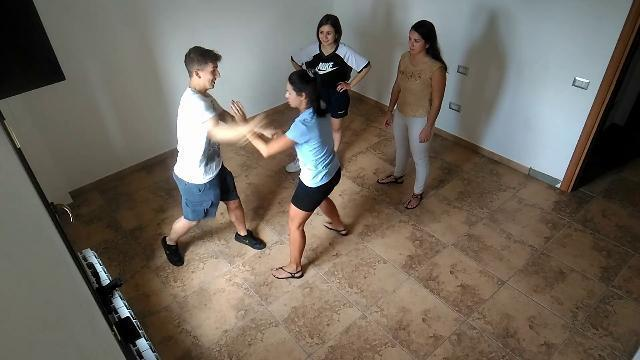non-violence: (375, 18, 451, 211), (286, 13, 372, 173)
violence: (159, 44, 347, 278)
